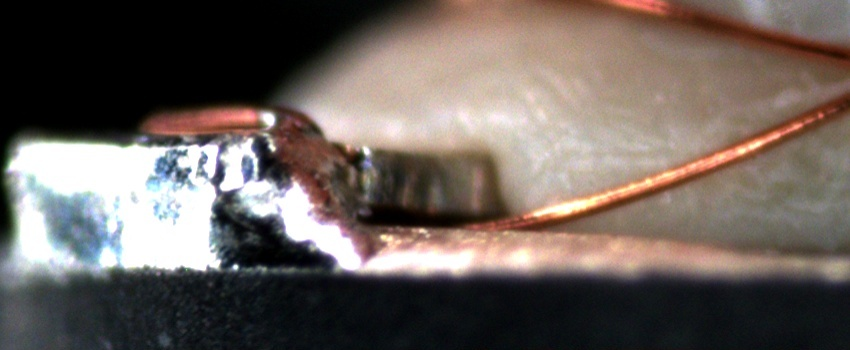DL: (547, 132, 670, 181)
TE: (122, 99, 328, 139)
